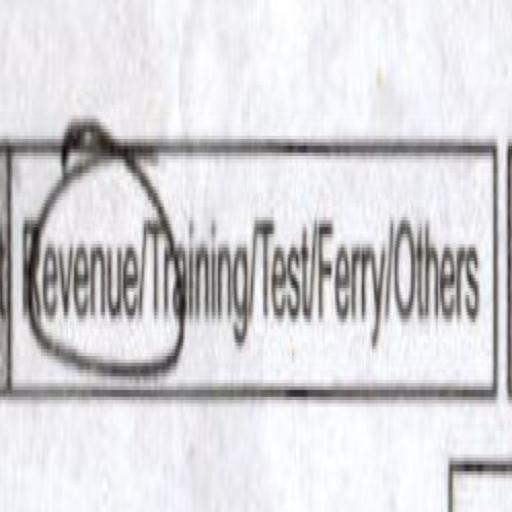check: (16, 104, 141, 444)
